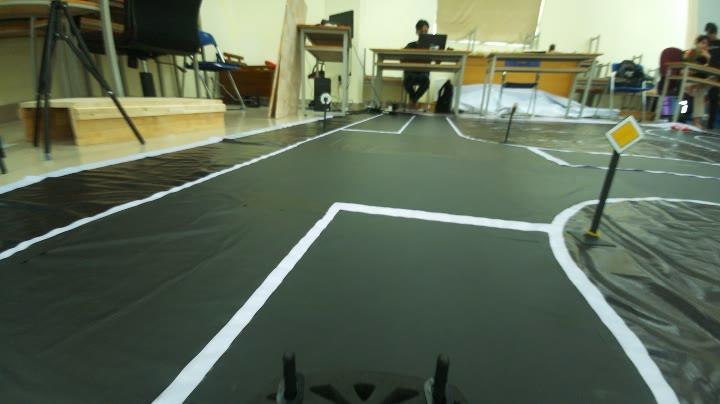priority: (602, 111, 647, 158)
